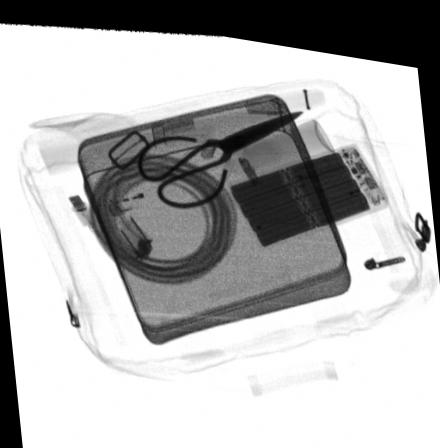Lighter: (104, 177, 171, 215)
Powerbank: (222, 125, 394, 241)
Scissors: (132, 96, 305, 207)
Sprayer: (218, 106, 335, 190)
